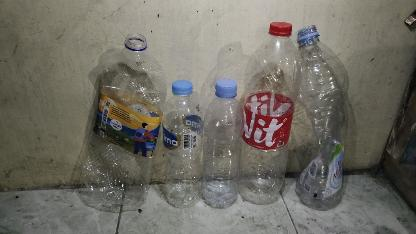Plastic Bottle: (78, 33, 168, 213), (242, 23, 322, 213), (297, 24, 349, 212), (162, 68, 204, 210), (206, 78, 244, 208)
